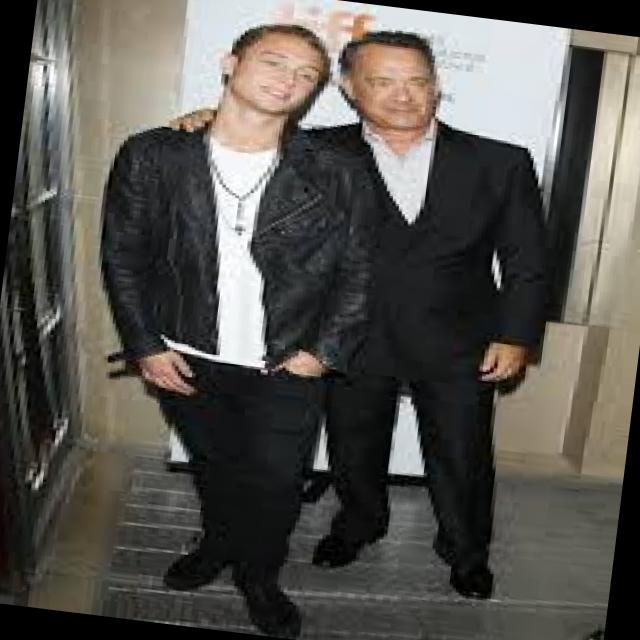Jacket: (63, 108, 394, 418)
